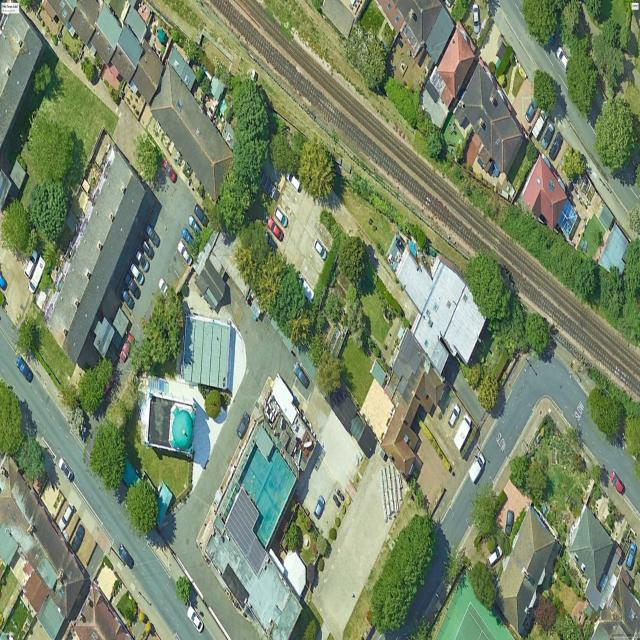Home: (45, 148, 153, 363), (0, 458, 89, 640), (360, 331, 445, 479), (396, 247, 485, 377), (150, 66, 233, 200), (498, 508, 560, 635), (458, 61, 524, 174), (0, 10, 43, 151), (568, 505, 620, 610), (380, 0, 454, 63), (429, 22, 475, 109), (73, 583, 133, 640), (523, 156, 567, 230), (112, 7, 148, 82), (132, 41, 164, 105), (90, 5, 122, 64), (598, 224, 629, 275), (71, 0, 99, 46)
mosque: (140, 390, 197, 458)
